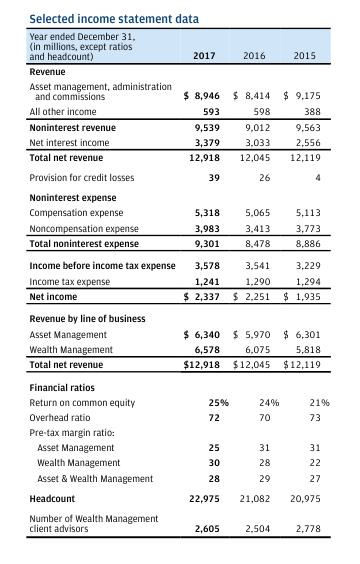table: (28, 28, 329, 533)
table column: (28, 28, 178, 533), (178, 28, 229, 533), (229, 28, 280, 533), (280, 28, 329, 533)
table column header: (28, 28, 329, 62)
table projected row header: (28, 306, 329, 325), (28, 374, 329, 393), (28, 186, 329, 204), (28, 423, 329, 439), (28, 62, 329, 77)
table row: (28, 28, 329, 62), (28, 77, 329, 103), (28, 507, 329, 533), (28, 166, 329, 186), (28, 487, 329, 507), (28, 234, 329, 253), (28, 253, 329, 272), (28, 287, 329, 306), (28, 306, 329, 325), (28, 355, 329, 374), (28, 374, 329, 393), (28, 148, 329, 166), (28, 186, 329, 204), (28, 469, 329, 487), (28, 423, 329, 439), (28, 62, 329, 77), (28, 103, 329, 118), (28, 118, 329, 133), (28, 133, 329, 148), (28, 204, 329, 219), (28, 219, 329, 234), (28, 272, 329, 287), (28, 325, 329, 340), (28, 340, 329, 355), (28, 393, 329, 408), (28, 408, 329, 423), (28, 439, 329, 454), (28, 454, 329, 469)
